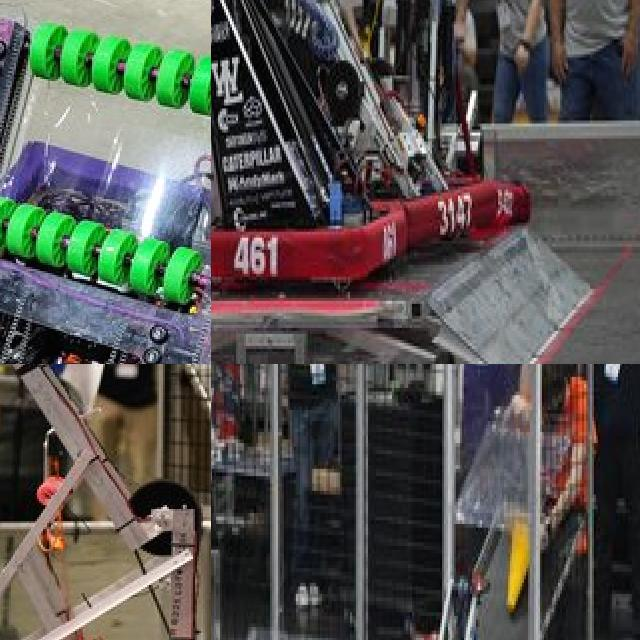FRC-Robots: (0, 21, 211, 364), (230, 0, 492, 269), (0, 364, 211, 640), (211, 0, 404, 280), (326, 563, 580, 640), (478, 117, 554, 235)
